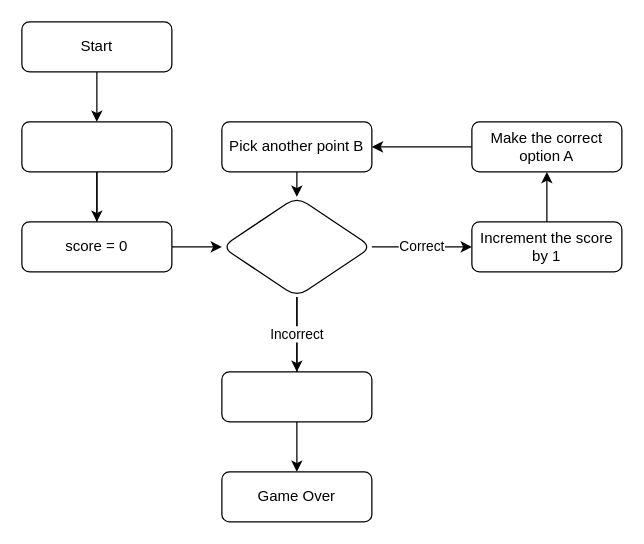
Some shapes in this 644 by 544 pixel diagram are drawn without their labels. Here are the shapes that lost their labels. From the top down, the centre of each, then its label:
At pixel 96 146: "Choose two random points A and B".
At pixel 296 246: "Ask the player to make a choice".
At pixel 296 396: "Show score to the player".
